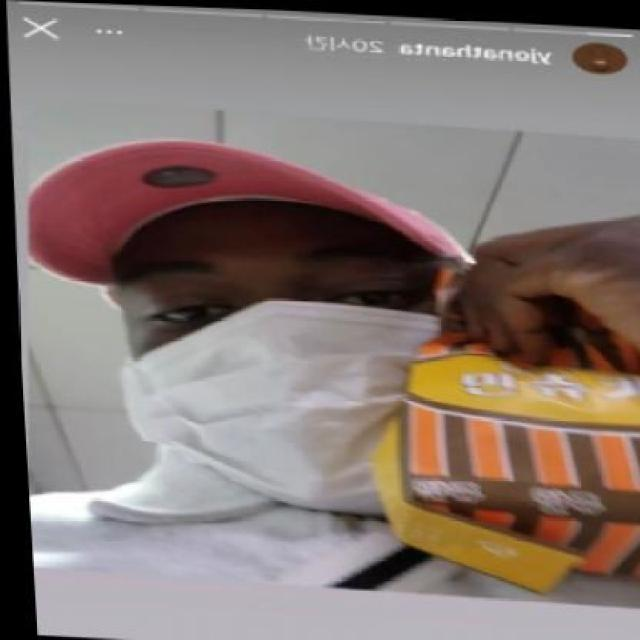hat: (7, 127, 470, 310)
